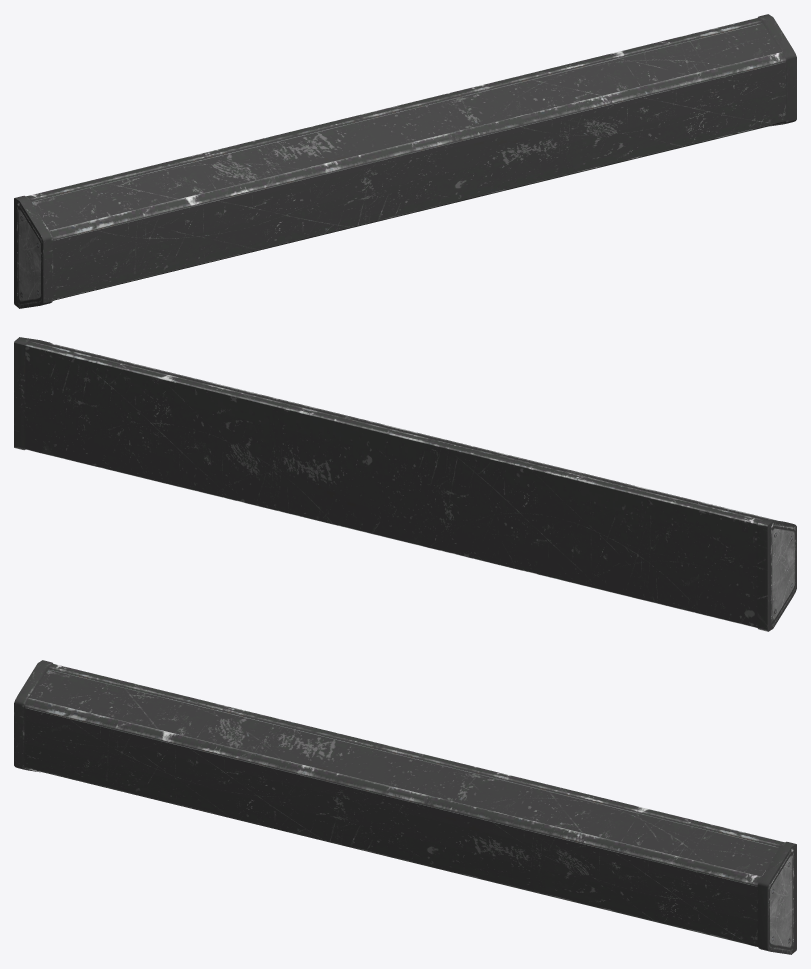
Rendered from SM_Wall_Light_02c.glb.
3 views of the same model, one above another, from view 1: azimuth 30°, elevation 25°; view 2: azimuth 150°, elevation 25°; view 3: azimuth 330°, elevation 25° (orthographic).
Parts seen in each view (by area): view 1: SM_Wall_Light_02c; view 2: SM_Wall_Light_02c; view 3: SM_Wall_Light_02c.
Boxes of the visible parts, x1,y1,x2,y2 form: SM_Wall_Light_02c: (14,14,796,308); SM_Wall_Light_02c: (14,337,796,631); SM_Wall_Light_02c: (14,660,796,954).
Bounding box in the file's own units: 1.5 × 0.2051 × 0.1007.
Materials: 1 (1 with a texture image).
